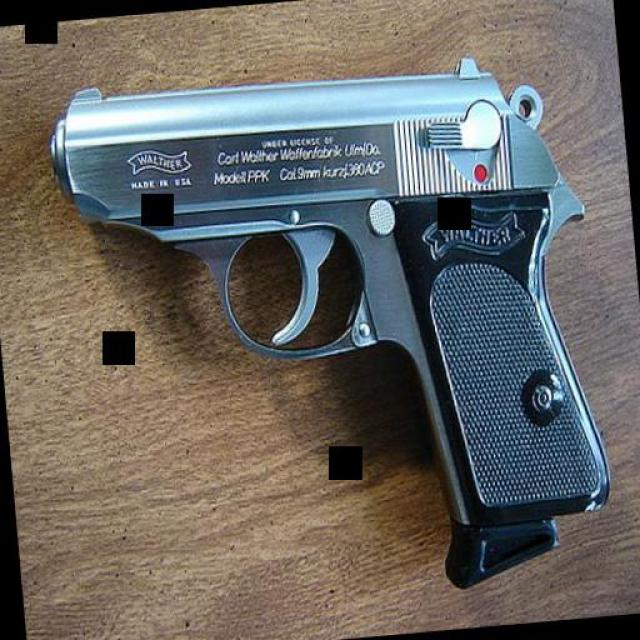gun: (42, 40, 620, 621)
